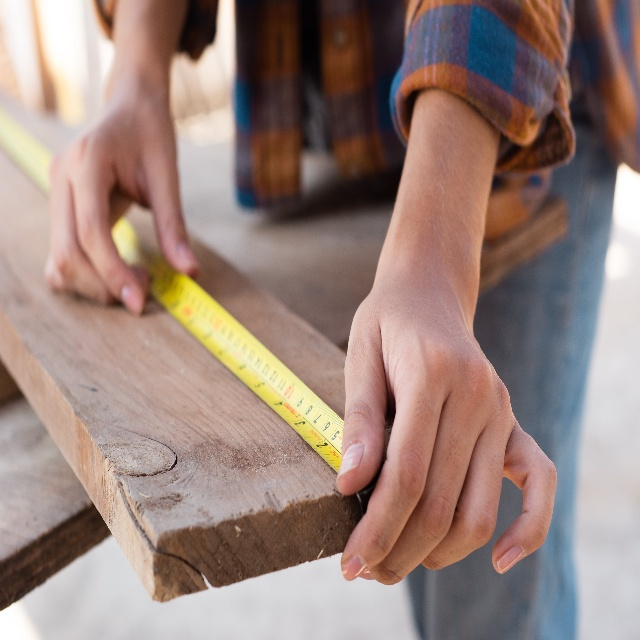Sin_guantes: (335, 287, 560, 586), (42, 91, 201, 317)
